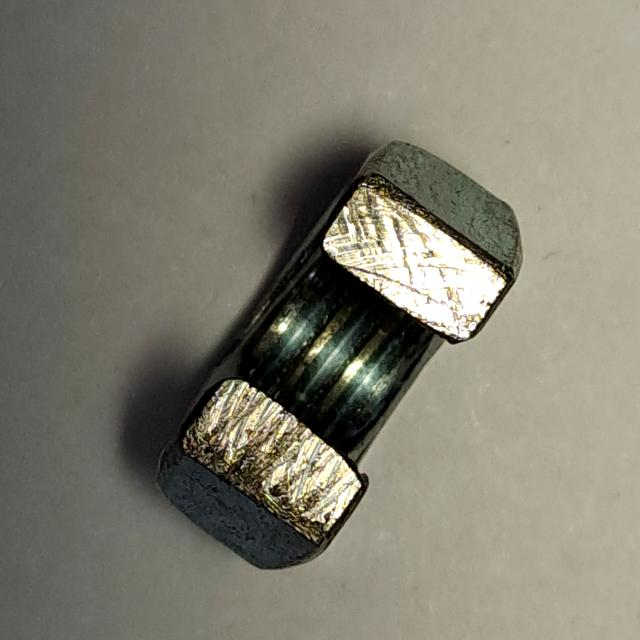Side-Fracture: (143, 130, 531, 589)
